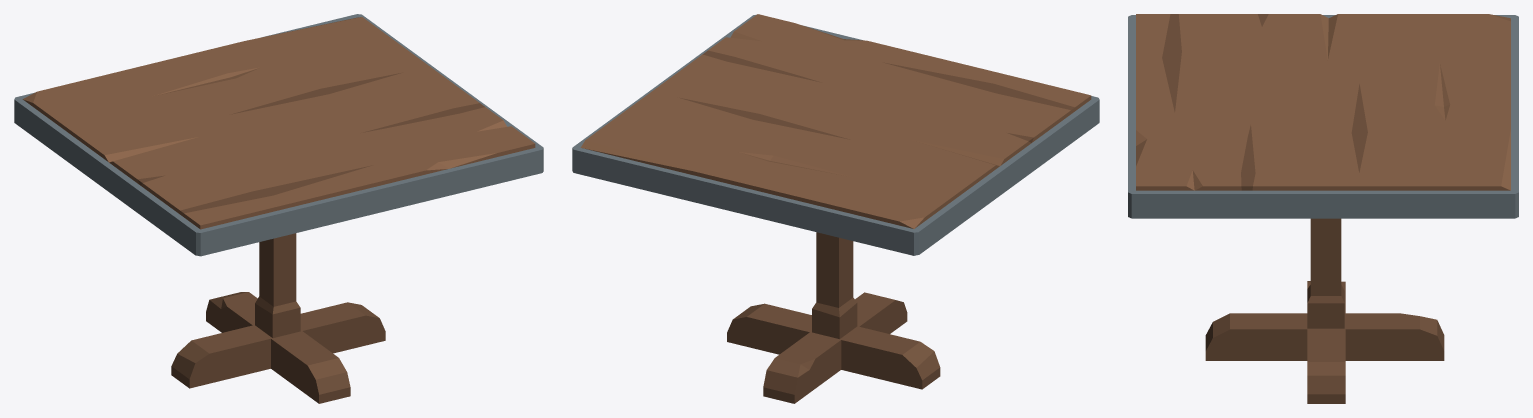
Rendered from SM_Prop_Table_16.obj.
The picture shows the model from 3 angles, left to right: view 1: azimuth 30°, elevation 25°; view 2: azimuth 150°, elevation 25°; view 3: azimuth 270°, elevation 25°; orthographic projection. The views are drawn at different scales.
Visible parts, largest first — view 1: SM_Prop_Table_16_0; view 2: SM_Prop_Table_16_0; view 3: SM_Prop_Table_16_0.
Part boxes in pixels (box(x1,y1,x2,y2)): SM_Prop_Table_16_0: box(14, 14, 543, 403); SM_Prop_Table_16_0: box(572, 14, 1099, 403); SM_Prop_Table_16_0: box(1128, 14, 1518, 403).
Bounding box in the file's own units: 1.18 × 0.7804 × 1.09.
1 material, 1 textured.
